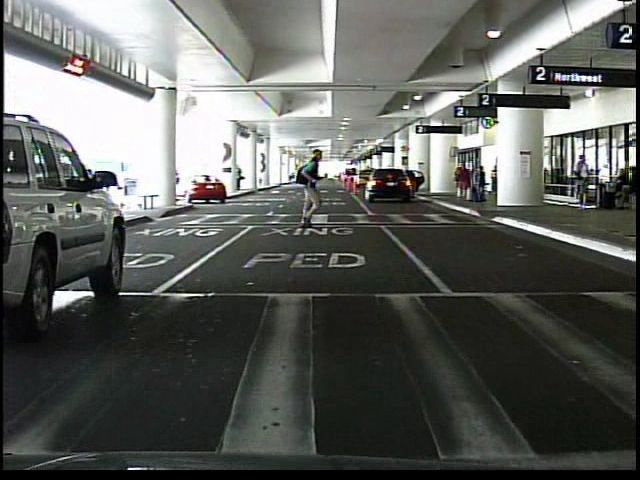person: (284, 147, 328, 227), (452, 159, 473, 201), (574, 158, 589, 210), (474, 166, 487, 201), (489, 165, 501, 194)
